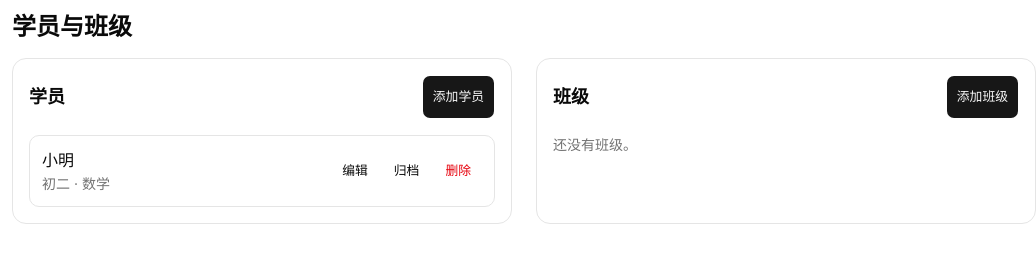
Test: StudentsPage › 归档失败时在列表上显示错误
This screenshot has width=1036, height=277.
Step 1. Click the button with aria-label "归档学员 小明" → coordinates (407, 171), box [383,149,430,193]
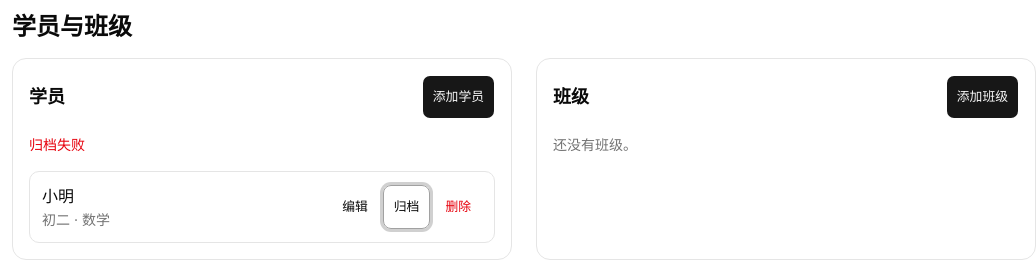
Result: the text "归档失败" is shown at [29,136,85,153]
